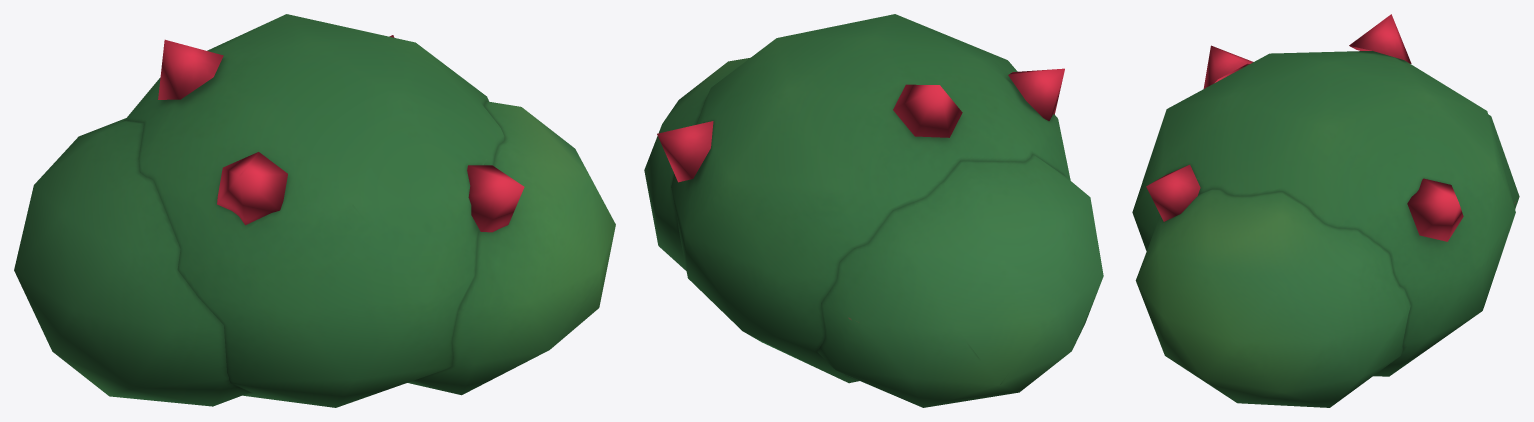
File: bush.glb
3 views of the same model, side by side, from view 1: azimuth 30°, elevation 25°; view 2: azimuth 150°, elevation 25°; view 3: azimuth 270°, elevation 25° (orthographic). The views are drawn at different scales.
Visible parts, largest first — view 1: bush; view 2: bush; view 3: bush.
Part boxes in pixels (left/top/right/bottom): bush: left=14, top=14, right=615, bottom=407; bush: left=644, top=14, right=1103, bottom=407; bush: left=1132, top=14, right=1519, bottom=407.
Size of the model in its own units: 0.2896 by 0.1824 by 0.2275.
Materials: 1 (1 with a texture image).
